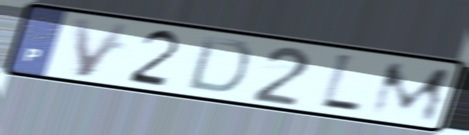2: (250, 44, 316, 110), (126, 28, 184, 89)
D: (183, 33, 255, 96)
L: (316, 50, 366, 117)
M: (366, 60, 455, 124)
V: (70, 15, 135, 80)
